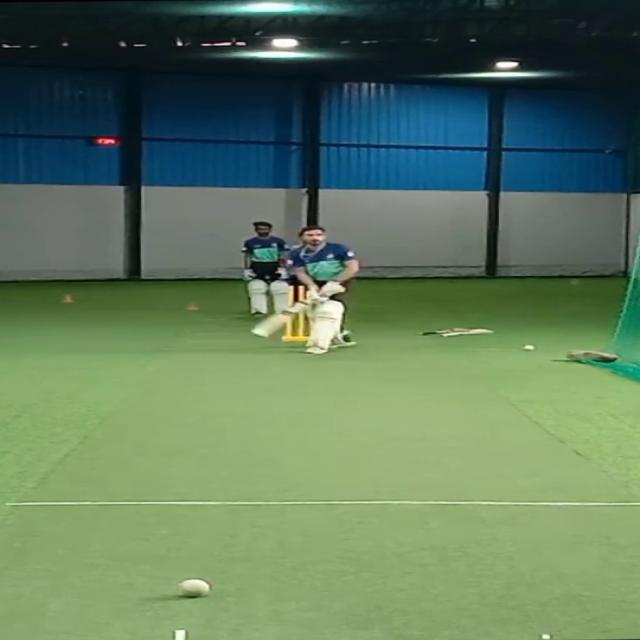ball: (167, 573, 216, 604)
stump: (276, 282, 313, 341)
